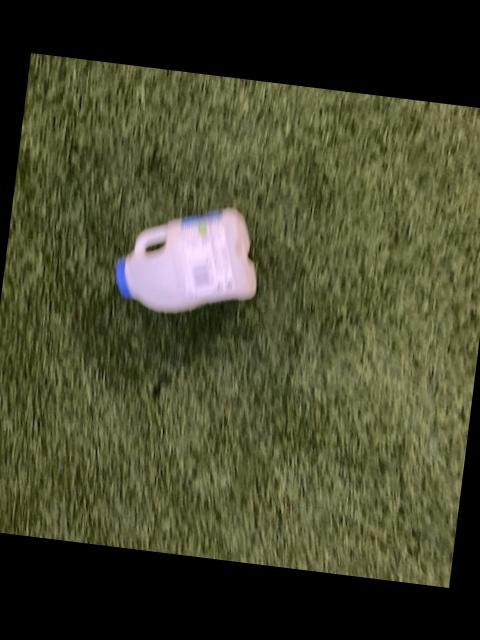plastic: (114, 206, 254, 311)
